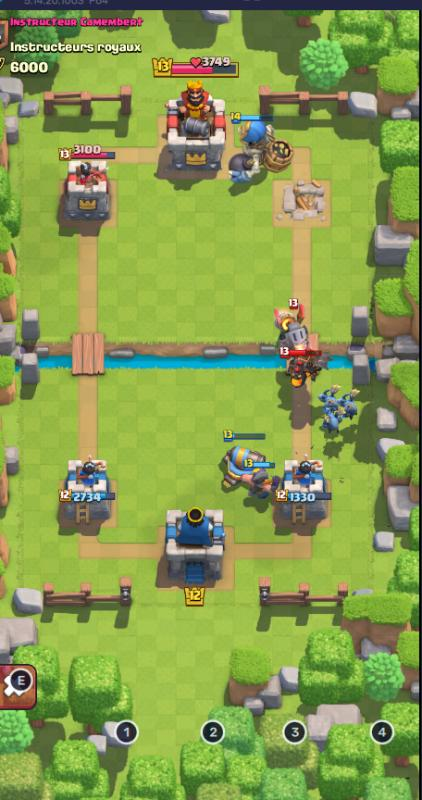gargouille: (319, 410, 344, 443), (317, 387, 344, 407), (345, 404, 355, 424)
